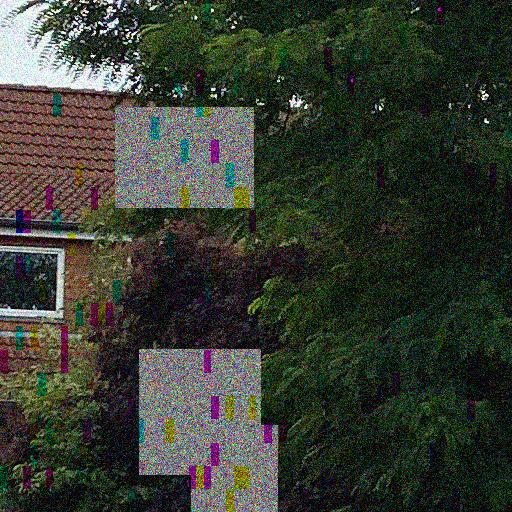tree: (1, 1, 512, 512), (6, 217, 317, 512)
